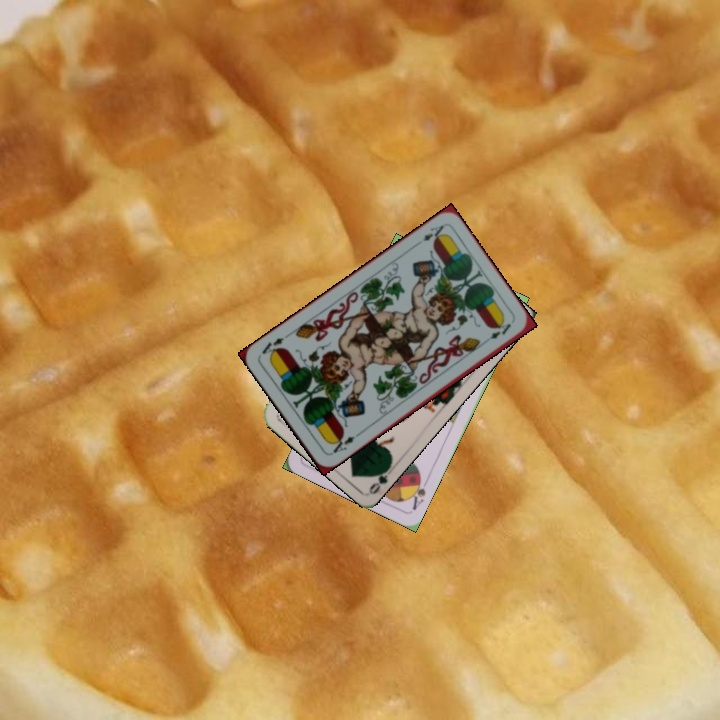EA: (327, 429, 363, 457), (411, 221, 447, 249)
GO: (365, 459, 395, 496)
SA: (404, 472, 431, 513)
